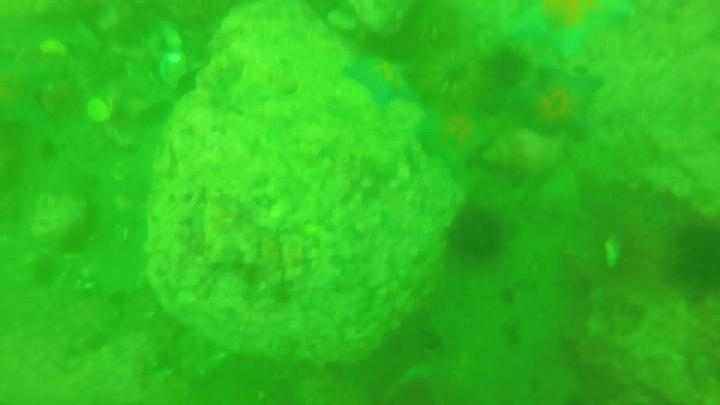echinus: (668, 218, 720, 303), (448, 208, 503, 262)
scallop: (160, 53, 188, 95), (88, 94, 117, 122)
starfish: (520, 1, 639, 59), (524, 65, 602, 139), (346, 54, 427, 106)
